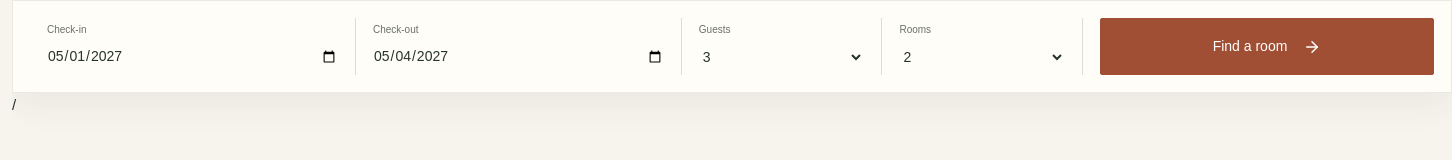
Test: guest interaction components › submits dates and quantities through the search route
Click the button "Find a room".
click(1267, 46)  # box 1100,18 -> 1434,75
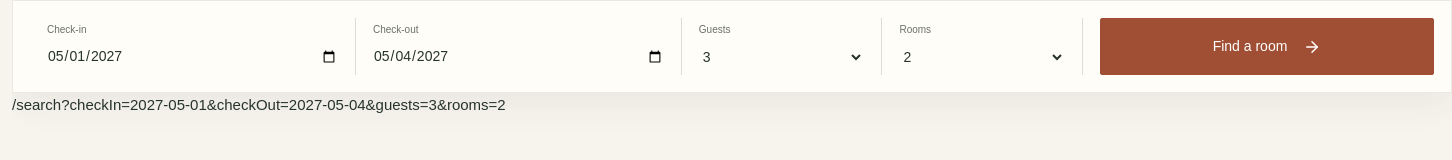
Check: the text with test id "location" reads "/search?checkIn=2027-05-01&checkOut=2027-05-04&guests=3&rooms=2", box 12,96 -> 506,113
